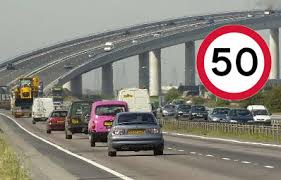Speed_limit_50km: (197, 24, 271, 100)
